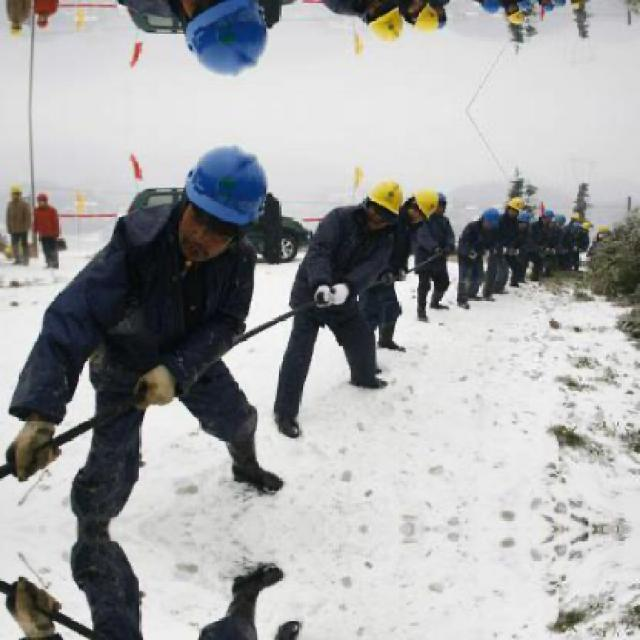helmet: (178, 142, 268, 263), (177, 0, 268, 78), (362, 171, 409, 226), (362, 0, 411, 49), (409, 0, 440, 34), (409, 186, 438, 222), (480, 205, 503, 229), (31, 186, 51, 208), (514, 209, 535, 229), (31, 11, 51, 32), (506, 194, 525, 214), (506, 6, 525, 26), (481, 0, 505, 15), (550, 211, 568, 229), (539, 0, 559, 15), (540, 205, 558, 220), (512, 0, 536, 11), (8, 180, 22, 198), (8, 20, 22, 38), (551, 0, 569, 9)
